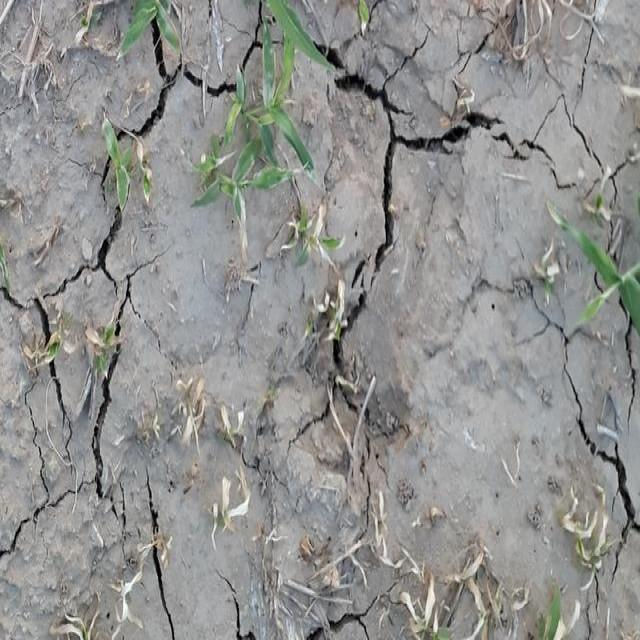weed: (194, 0, 326, 226), (530, 180, 640, 350)
